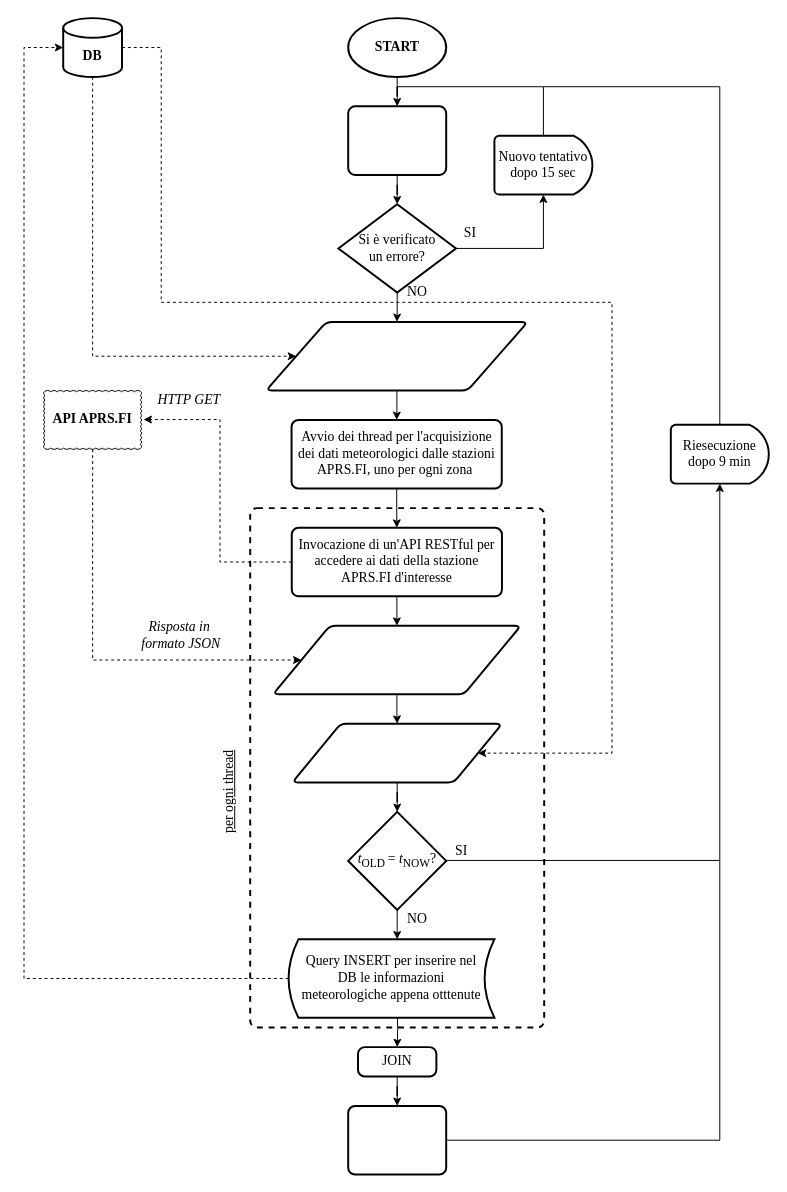
Some shapes in this 787 by 1192 pixel diagram are drawn without their labels. The shapes that lost their labels are listed below. From the top down, each one's box as (x1, y1, x2, y2) in pixels, then its label:
(347, 105, 447, 175): Apertura della connessione con il DB
(265, 320, 528, 391): Query SELECT per ottenere i codici delle stazioni APRS.FI, uno per ogni zona
(271, 624, 521, 695): Accesso ai dati tramite parsing del file JSON ottenuto in risposta alla chiamata
(291, 722, 503, 783): Query SELECT per ottenere t OLD
(347, 1104, 447, 1175): Chiusura della connessione con il DB
